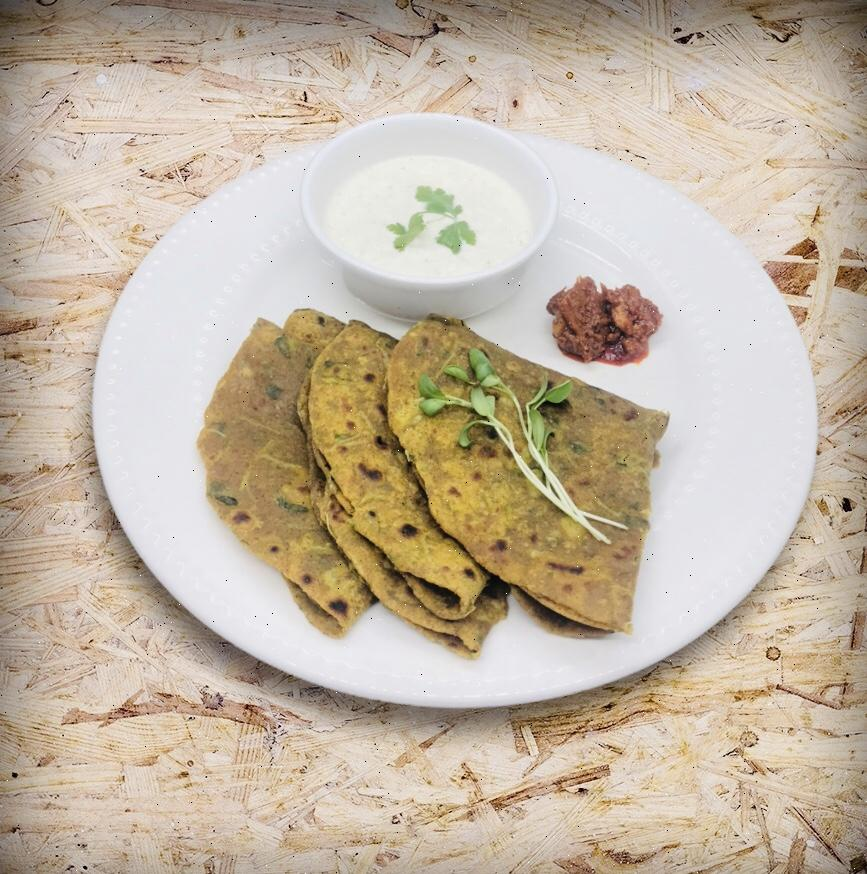thepla: (191, 308, 641, 650)
yogurt: (313, 139, 539, 284)
